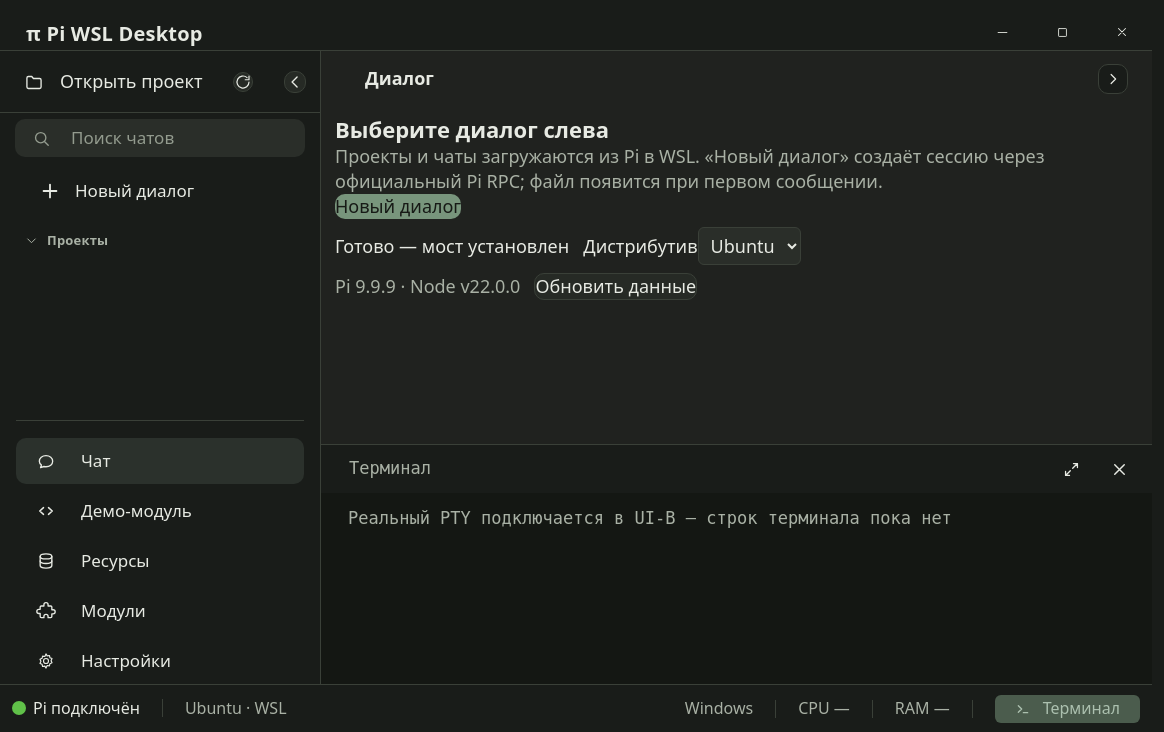
Scenario: M3 module registration UI › disables and re-enables the demo module from the Modules view
The width and height of the screenshot is (1164, 732).
Click the button with test id "nav-modules". click: (113, 611)
box: [16, 588, 304, 634]
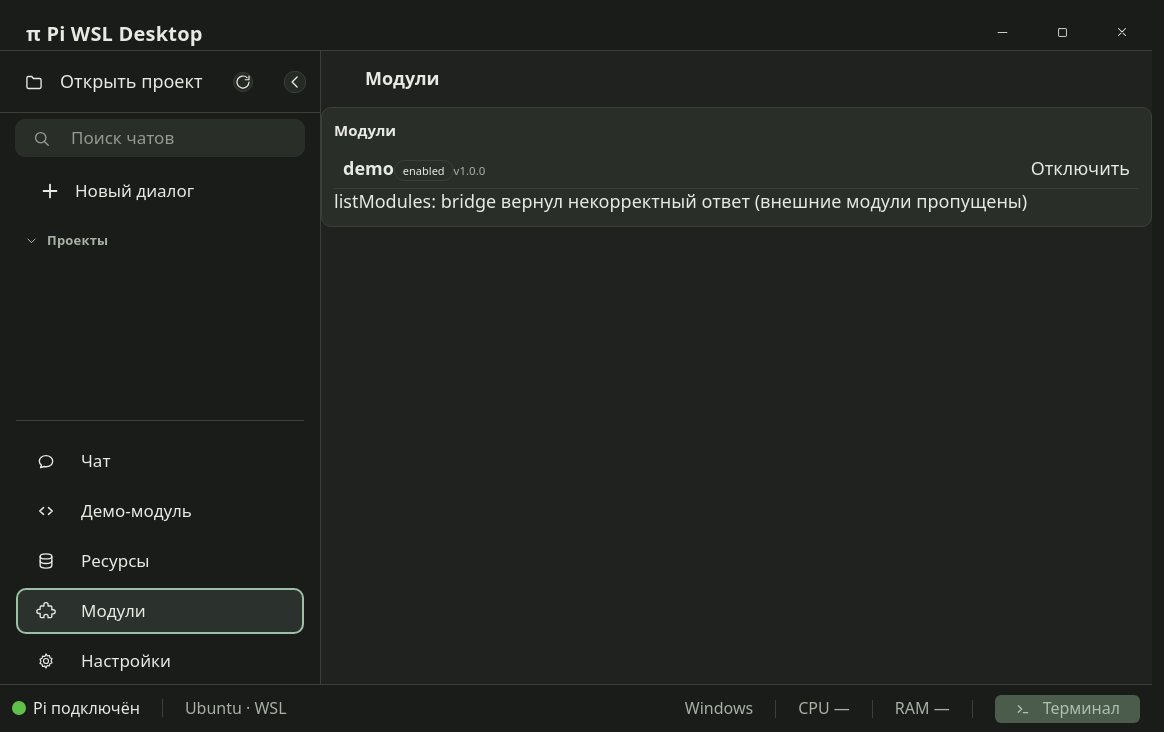
Expected: the list item with test id "module-entry-module-0" is shown, [334, 149, 1139, 189]
Click the button with test id "module-toggle-demo". click: (1080, 169)
box: [1031, 156, 1130, 181]
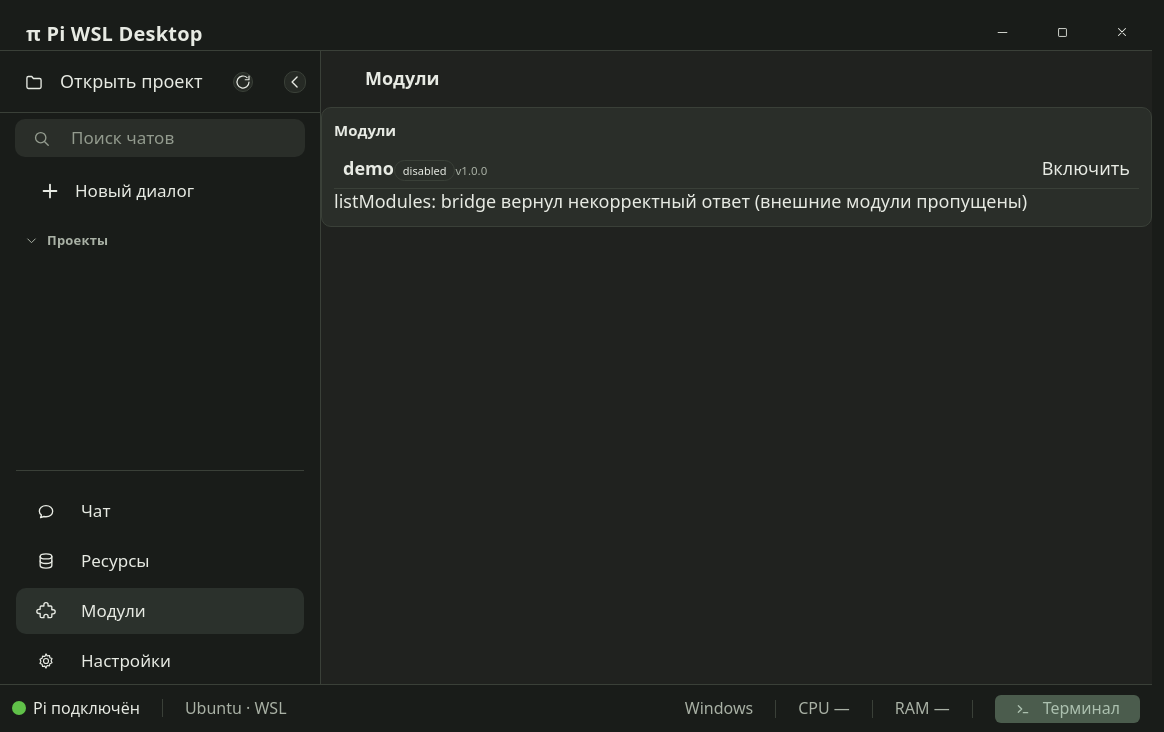
Expected: the button with test id "module-toggle-demo" is enabled
Expected: the button with test id "tab-module-demo/welcome" is gone
Expected: the text with test id "module-row-state-module-0" reads "disabled", [403, 163, 446, 178]
Click the button with test id "module-toggle-demo". click: (1086, 169)
box: [1042, 156, 1130, 181]
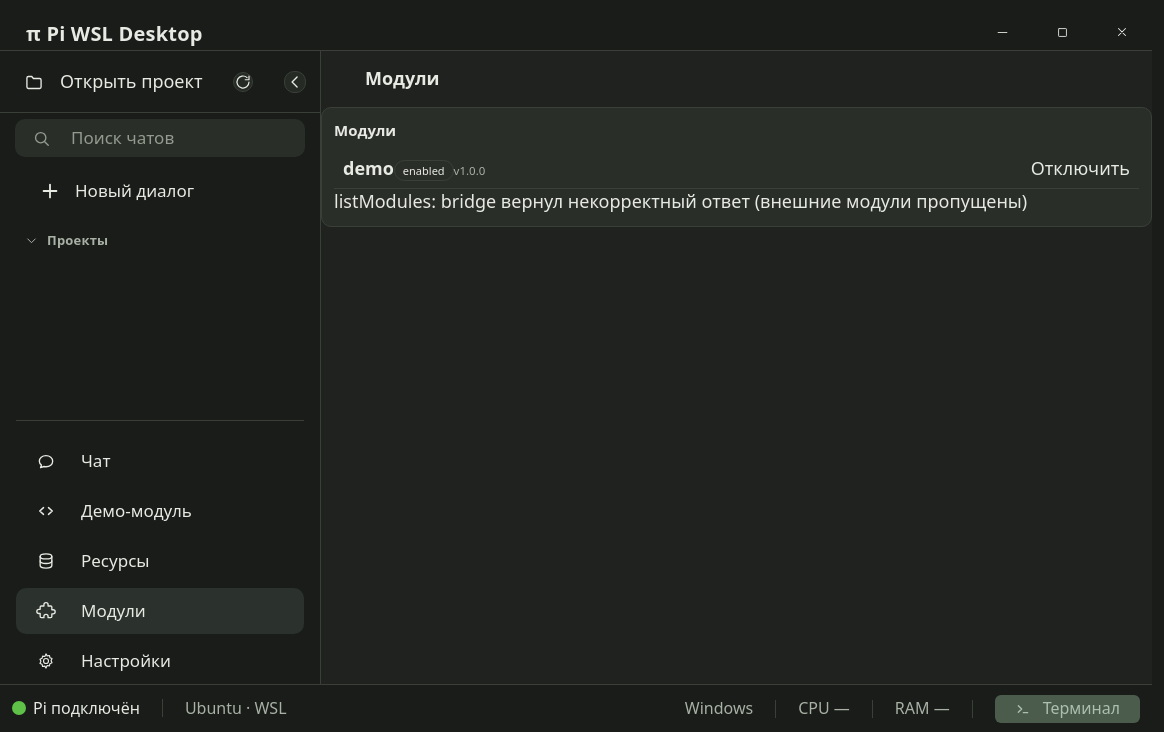
Expected: the button with test id "module-toggle-demo" is enabled, [1031, 156, 1130, 181]
Expected: the button with test id "tab-module-demo/welcome" is shown, [16, 488, 304, 534]
Expected: the text with test id "module-row-state-module-0" reads "enabled", [403, 163, 445, 178]
